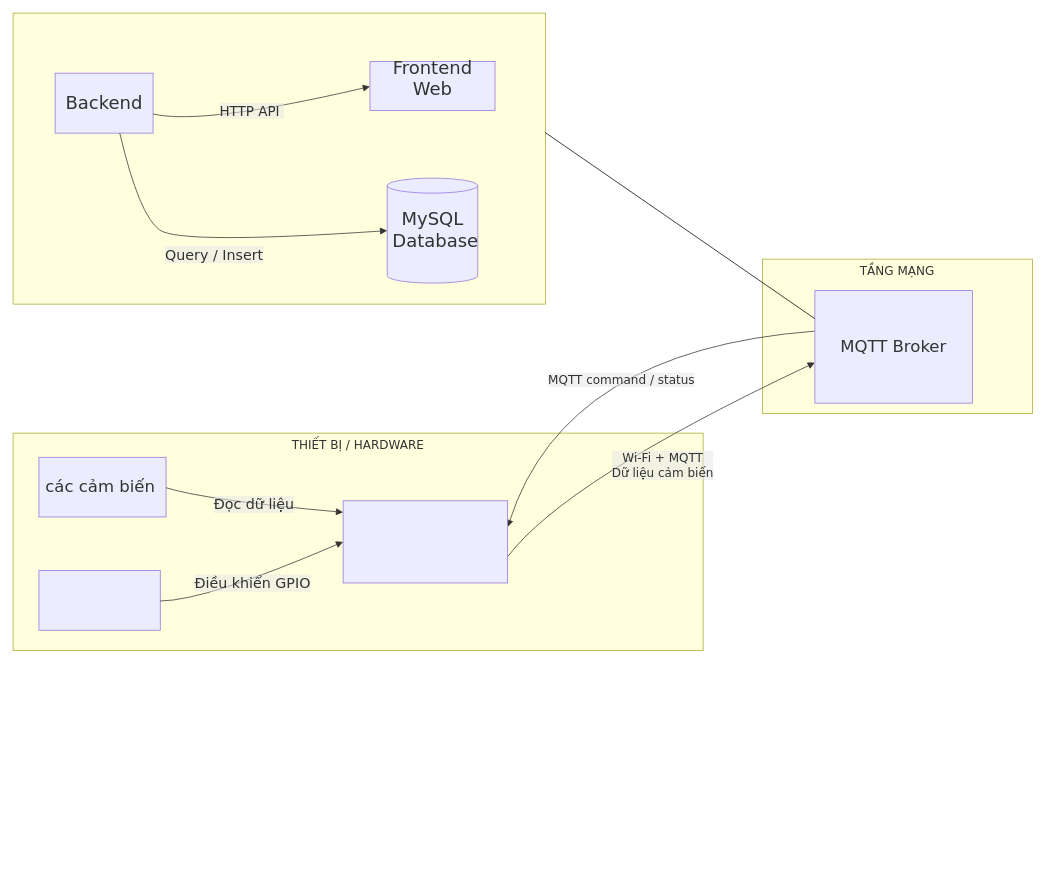
This 1046x896 diagram has some shape labels left out. Each missing label, with the box of its shape:
các thiết bị: (38, 570, 160, 630)
ESP32: (342, 500, 508, 583)
TẦNG ỨNG DỤNG: (12, 12, 546, 304)
